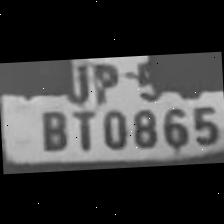0: (95, 102, 128, 148)
3: (125, 54, 166, 99)
5: (187, 98, 220, 146)
6: (156, 102, 190, 150)
8: (127, 102, 158, 148)
B: (34, 104, 68, 150)
P: (86, 56, 120, 104)
T: (66, 103, 99, 150)
U: (57, 57, 92, 104)
